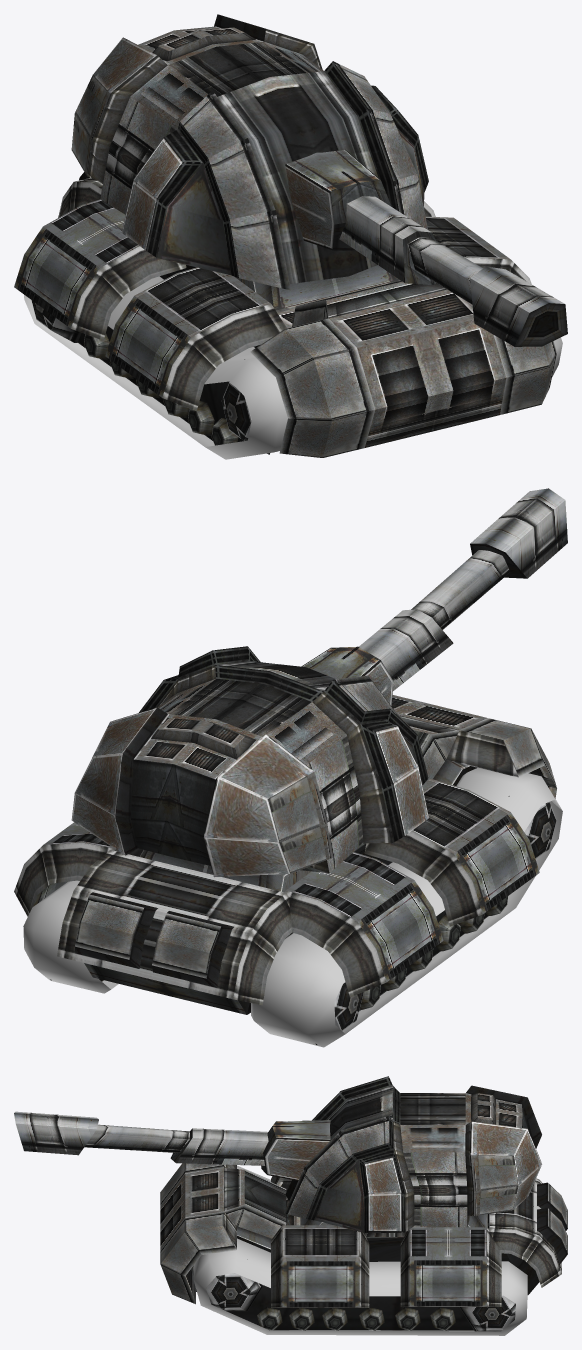
Rendered from tank-10_fbx.FBX.
3 renders of one model, top to bottom at view 1: azimuth 30°, elevation 25°; view 2: azimuth 150°, elevation 25°; view 3: azimuth 270°, elevation 25°, orthographic. The views are drawn at different scales.
Parts seen in each view (by area): view 1: body, tow, barrel, treads_R, wheel_15, wheel_14, wheel_12; view 2: body, tow, barrel, treads_R, treads_L, wheel_15, wheel_14; view 3: body, tow, barrel, treads_L, wheel_16, wheel_13, wheel_08, wheel_07, wheel_06, wheel_04, wheel_05, wheel_03.
Boxes of the visible parts, bbox=[...] form: body: bbox=[14, 172, 556, 457]; tow: bbox=[71, 14, 428, 290]; barrel: bbox=[285, 149, 567, 346]; treads_R: bbox=[24, 276, 287, 459]; wheel_15: bbox=[221, 359, 269, 454]; wheel_14: bbox=[31, 300, 81, 342]; wheel_12: bbox=[187, 401, 214, 436]; body: bbox=[14, 695, 556, 1014]; tow: bbox=[71, 646, 428, 877]; barrel: bbox=[301, 488, 567, 706]; treads_R: bbox=[251, 768, 562, 1047]; treads_L: bbox=[23, 880, 118, 993]; wheel_15: bbox=[508, 796, 556, 858]; wheel_14: bbox=[315, 982, 363, 1044]; body: bbox=[160, 1163, 567, 1330]; tow: bbox=[284, 1076, 541, 1232]; barrel: bbox=[14, 1111, 330, 1180]; treads_L: bbox=[193, 1238, 527, 1335]; wheel_16: bbox=[206, 1259, 263, 1311]; wheel_13: bbox=[459, 1295, 515, 1331]; wheel_08: bbox=[430, 1307, 456, 1330]; wheel_07: bbox=[395, 1307, 421, 1330]; wheel_06: bbox=[359, 1307, 385, 1330]; wheel_04: bbox=[289, 1308, 315, 1330]; wheel_05: bbox=[322, 1308, 348, 1330]; wheel_03: bbox=[257, 1307, 282, 1330].
Bounding box in the file's own units: 9.39 × 6.81 × 17.58.
